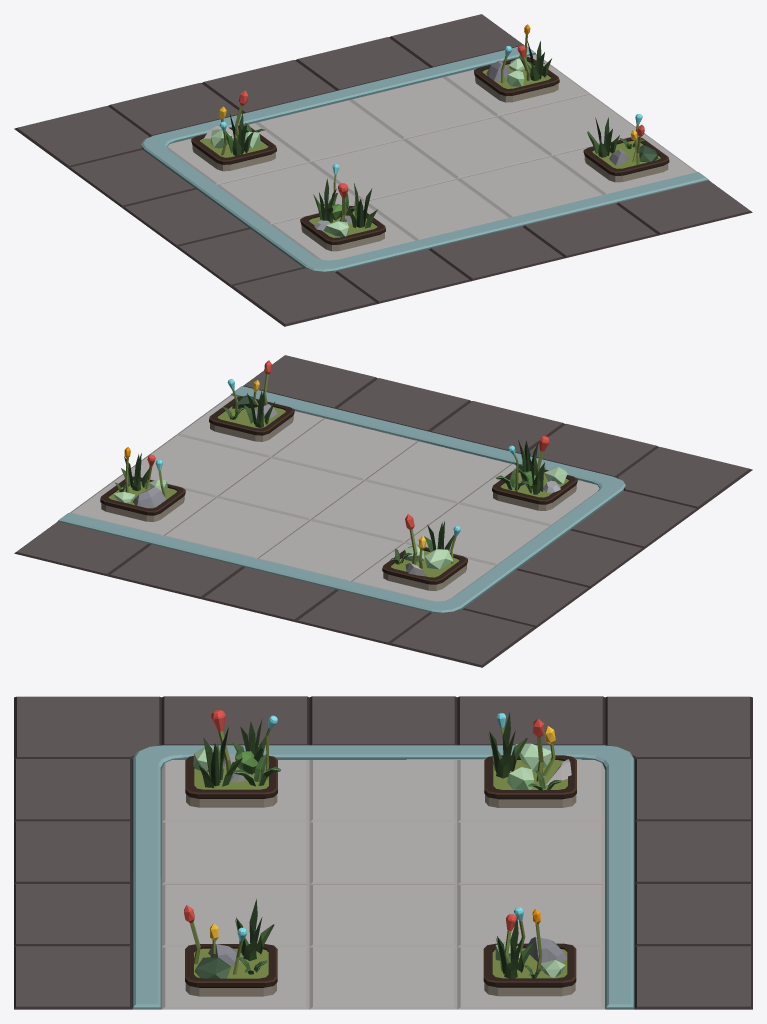
Rendered from DeadEnd_E.glb.
3 views of the same model, one above another, from view 1: azimuth 30°, elevation 25°; view 2: azimuth 150°, elevation 25°; view 3: azimuth 270°, elevation 25° (orthographic). The views are drawn at different scales.
Parts seen in each view (by area): view 1: DeadEnd_E, Cube.302, Cube.303, Cube.301, Cube.300, Grass_03.683, Grass_03.684, Grass_03.685, Grass_03.686; view 2: DeadEnd_E, Cube.302, Cube.301, Cube.303, Cube.300; view 3: DeadEnd_E, Cube.302, Cube.303, Cube.301, Cube.300, Grass_03.683, Grass_03.684, Grass_03.686, Grass_03.685, Flower03.1850, Tree_03.1579, Rock_08.054 (+4 smaller).
Part boxes in pixels (bbox=[...]): DeadEnd_E: bbox=[14, 14, 752, 326]; Cube.302: bbox=[583, 137, 669, 182]; Cube.303: bbox=[474, 57, 559, 102]; Cube.301: bbox=[191, 125, 276, 171]; Cube.300: bbox=[300, 206, 385, 251]; Grass_03.683: bbox=[346, 183, 377, 228]; Grass_03.684: bbox=[225, 113, 253, 155]; Grass_03.685: bbox=[587, 117, 619, 157]; Grass_03.686: bbox=[519, 40, 551, 80]; DeadEnd_E: bbox=[14, 355, 752, 667]; Cube.302: bbox=[209, 396, 294, 441]; Cube.301: bbox=[382, 545, 467, 590]; Cube.303: bbox=[100, 476, 185, 521]; Cube.300: bbox=[492, 469, 577, 510]; DeadEnd_E: bbox=[14, 696, 752, 1009]; Cube.302: bbox=[185, 944, 277, 996]; Cube.303: bbox=[483, 943, 576, 996]; Cube.301: bbox=[484, 755, 576, 807]; Cube.300: bbox=[185, 755, 277, 807]; Grass_03.683: bbox=[198, 727, 242, 787]; Grass_03.684: bbox=[488, 712, 527, 778]; Grass_03.686: bbox=[496, 917, 535, 978]; Grass_03.685: bbox=[235, 899, 274, 960]; Flower03.1850: bbox=[533, 719, 555, 782]; Tree_03.1579: bbox=[194, 957, 231, 978]; Rock_08.054: bbox=[526, 937, 567, 962].
Size of what is drawn, in the model's own units: 16 by 1.99 by 16.
1 material, 1 textured.
